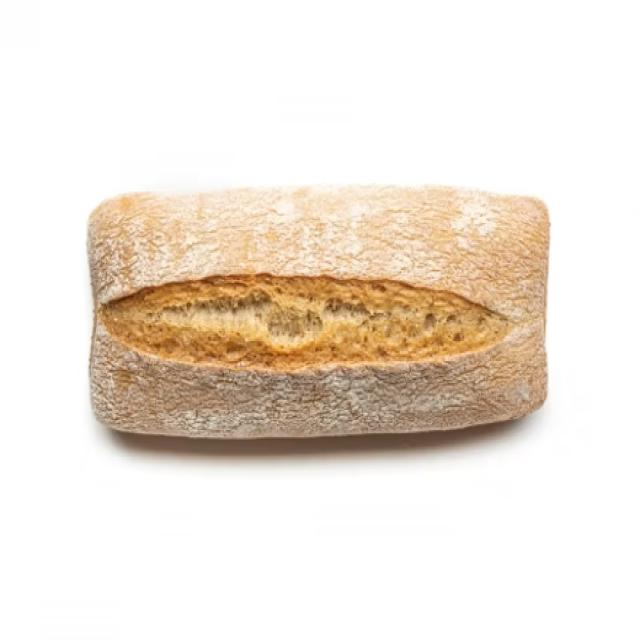Ciabatta: (90, 187, 550, 436)
